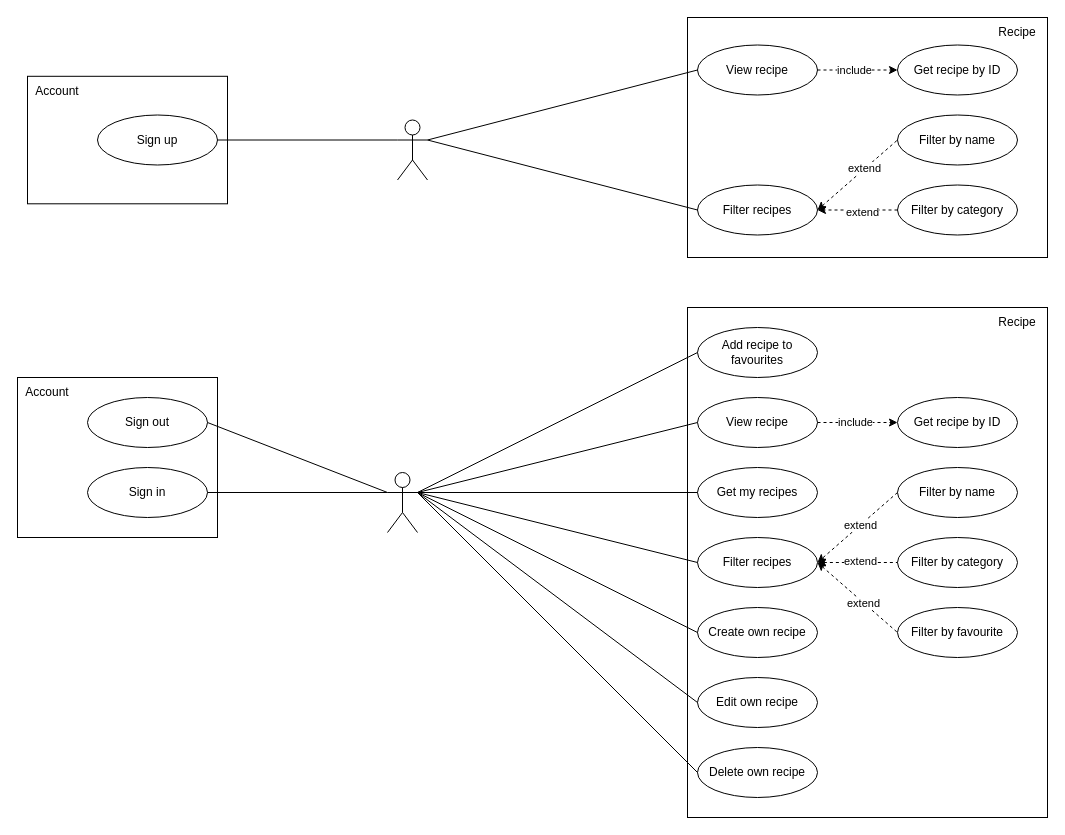
This 1065x835 diagram has some shape labels left out. The centre of each missing label's shape, as x and y in pixels:
"Authorized user" belongs at point 402,502.
"Guest" belongs at point 412,149.
